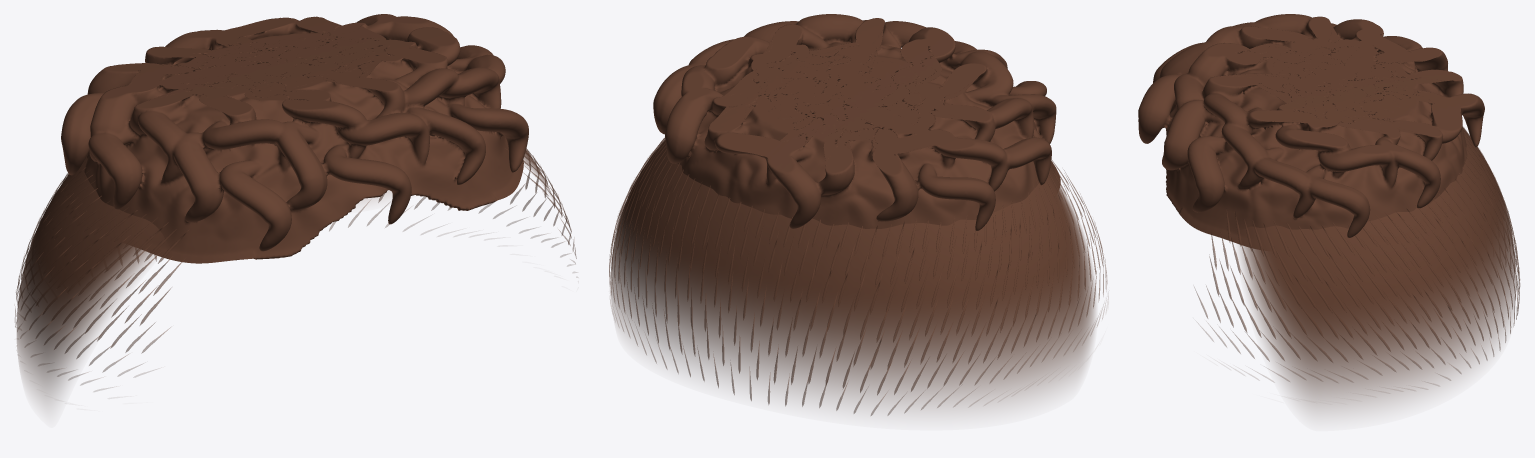
File: Masculine-curly-top-bucket259-hair.glb
The picture shows the model from 3 angles, left to right: view 1: azimuth 30°, elevation 25°; view 2: azimuth 150°, elevation 25°; view 3: azimuth 270°, elevation 25°; orthographic projection. The views are drawn at different scales.
Visible parts, largest first — view 1: 226 hair / Hair252 / sculpted curl groups, 226 hair / Hair258 / smooth side fade, 226 hair / Hair259 / directional fade marks214; view 2: 226 hair / Hair258 / smooth side fade, 226 hair / Hair252 / sculpted curl groups, 226 hair / Hair259 / directional fade marks214; view 3: 226 hair / Hair252 / sculpted curl groups, 226 hair / Hair258 / smooth side fade, 226 hair / Hair259 / directional fade marks214.
Boxes of the visible parts, x1=… form: 226 hair / Hair252 / sculpted curl groups: x1=61, y1=14, x2=528, y2=263; 226 hair / Hair258 / smooth side fade: x1=16, y1=58, x2=555, y2=404; 226 hair / Hair259 / directional fade marks214: x1=15, y1=143, x2=577, y2=391; 226 hair / Hair258 / smooth side fade: x1=611, y1=85, x2=1095, y2=410; 226 hair / Hair252 / sculpted curl groups: x1=653, y1=14, x2=1060, y2=230; 226 hair / Hair259 / directional fade marks214: x1=609, y1=137, x2=1108, y2=415; 226 hair / Hair252 / sculpted curl groups: x1=1138, y1=14, x2=1484, y2=249; 226 hair / Hair258 / smooth side fade: x1=1237, y1=73, x2=1516, y2=412; 226 hair / Hair259 / directional fade marks214: x1=1194, y1=126, x2=1520, y2=389.
Size of the model in its own units: 0.9743 by 0.6147 by 0.7572.
